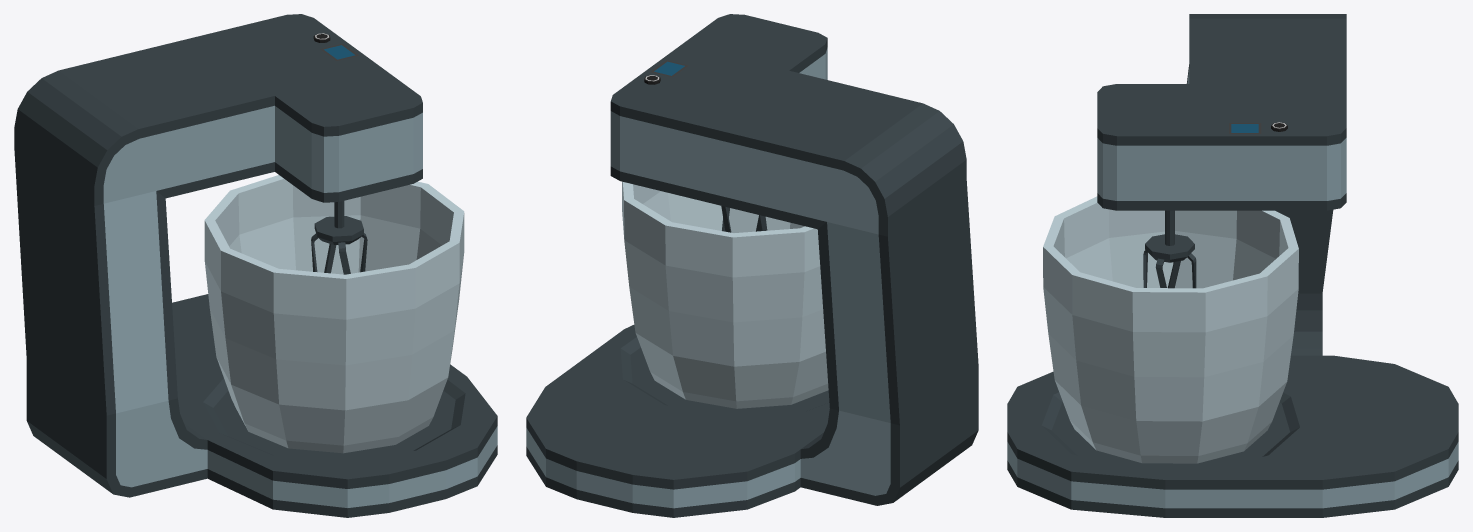
The model's file is KA_Mixer_V1.glb.
The picture shows the model from 3 angles, left to right: view 1: azimuth 30°, elevation 25°; view 2: azimuth 150°, elevation 25°; view 3: azimuth 270°, elevation 25°; orthographic projection.
Visible parts, largest first — view 1: KA_Mixer_V1, KA_Mixer_V1_Bowl; view 2: KA_Mixer_V1, KA_Mixer_V1_Bowl; view 3: KA_Mixer_V1, KA_Mixer_V1_Bowl.
Part boxes in pixels (x1,y1,x2,y2): KA_Mixer_V1: (14, 14, 497, 517); KA_Mixer_V1_Bowl: (204, 175, 464, 453); KA_Mixer_V1: (526, 14, 978, 517); KA_Mixer_V1_Bowl: (622, 181, 828, 408); KA_Mixer_V1: (1007, 14, 1458, 517); KA_Mixer_V1_Bowl: (1043, 196, 1298, 463).
Size of the model in its own units: 0.3846 by 0.3645 by 0.4251.
Materials: 2 (2 with a texture image).
